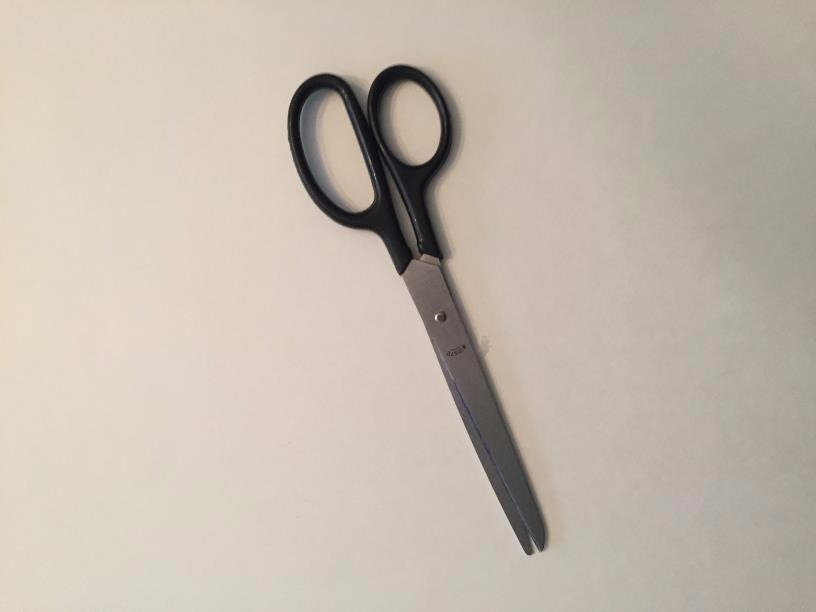scissor: (260, 38, 585, 575)
